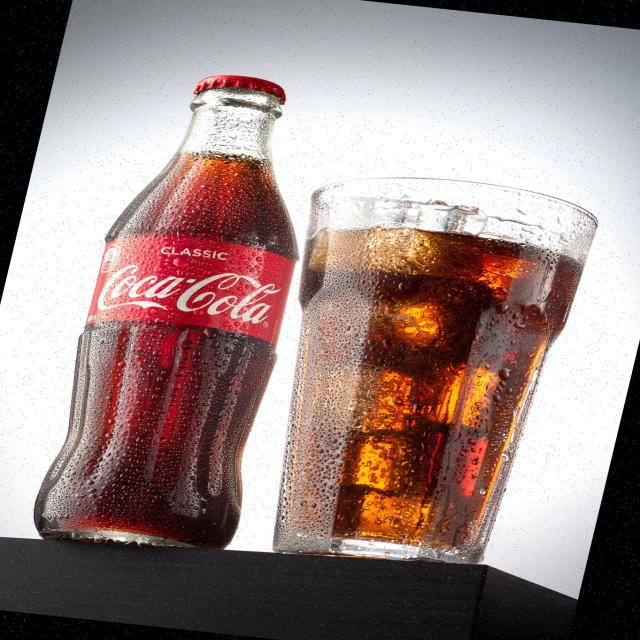coca-cola: (78, 256, 306, 337)
